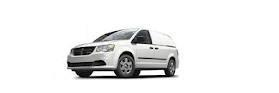Car: (64, 26, 186, 82)
